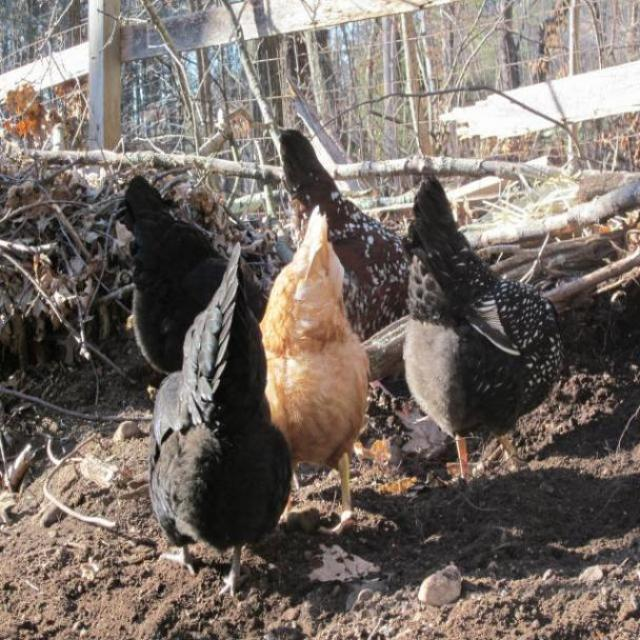Chicken: (144, 243, 292, 585), (403, 176, 562, 482), (265, 208, 374, 534)
